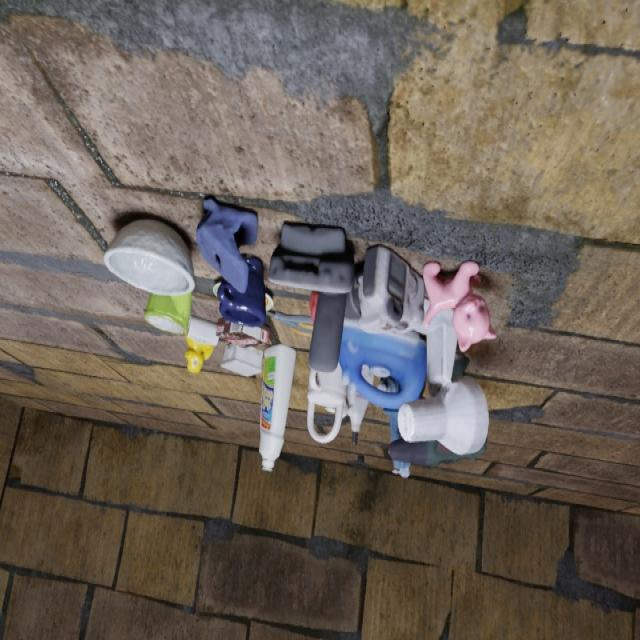Other Objects: (338, 323, 426, 412), (104, 219, 194, 296), (398, 379, 488, 456), (346, 247, 423, 335), (422, 263, 496, 352), (269, 224, 354, 293), (196, 197, 256, 292), (259, 345, 295, 471), (216, 257, 265, 327), (307, 364, 347, 444), (309, 295, 346, 372), (425, 312, 456, 388), (144, 293, 191, 335), (216, 319, 269, 347), (220, 345, 261, 377), (348, 387, 368, 445), (185, 337, 214, 373), (187, 316, 218, 347)
